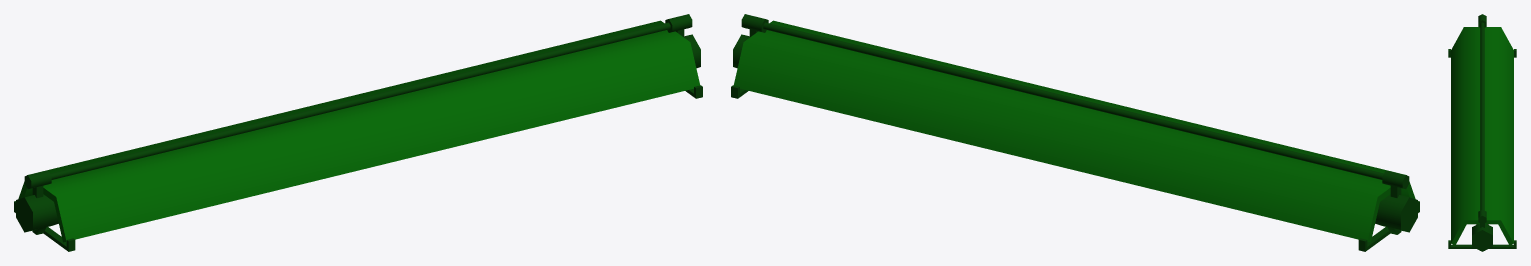
3 renders of one model, left to right at view 1: azimuth 30°, elevation 25°; view 2: azimuth 150°, elevation 25°; view 3: azimuth 270°, elevation 25°, orthographic. The views are drawn at different scales.
Visible parts, largest first — view 1: Plane.583; view 2: Plane.583; view 3: Plane.583.
Part boxes in pixels (box(x1,y1,x2,y2)): Plane.583: box(14, 14, 702, 251); Plane.583: box(731, 14, 1419, 251); Plane.583: box(1448, 14, 1516, 251).
Bounding box in the file's own units: 1.98 × 0.17 × 0.28.
